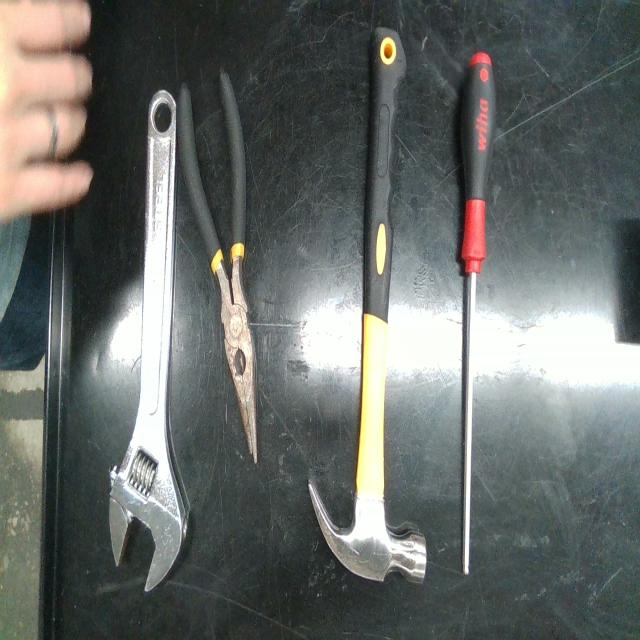Screwdriver: (461, 51, 495, 576)
